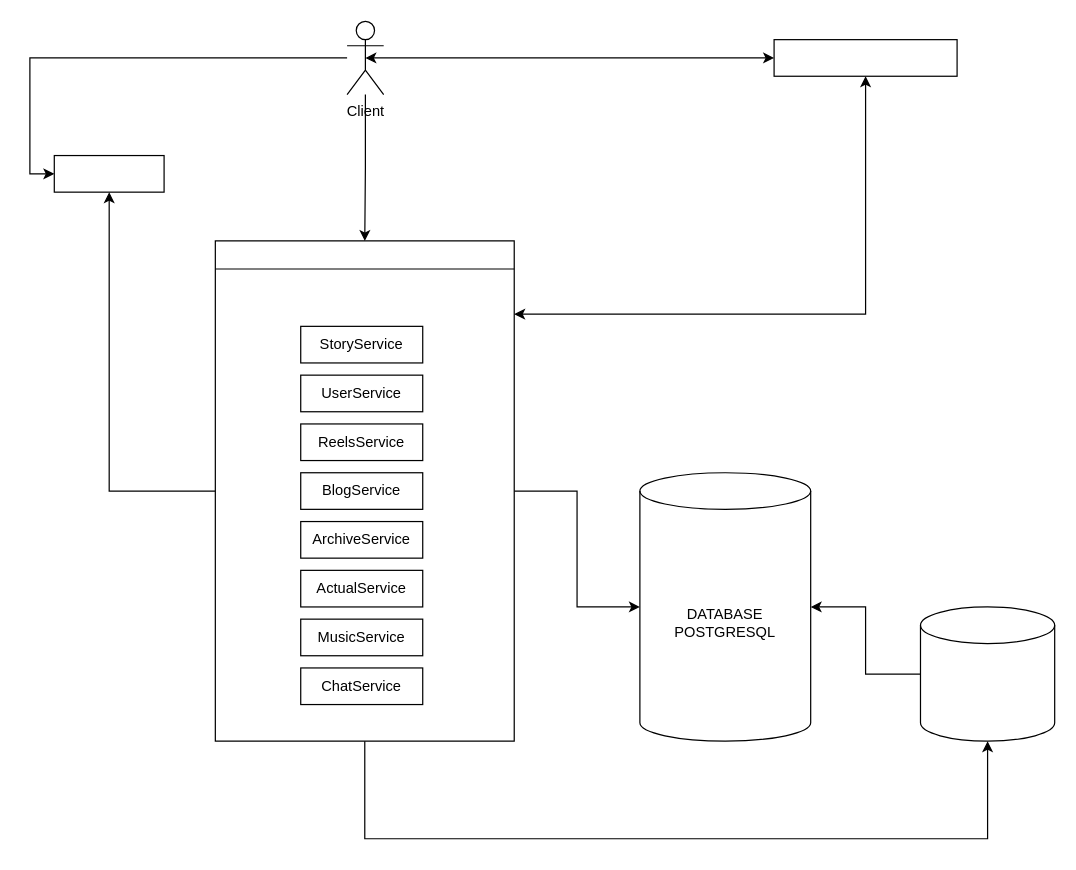
This 1076x870 diagram has some shape labels left out. Each missing label, with the box of its shape:
DATABASE POSTGRESQL REPLICA: (919, 606, 1055, 741)
KeyCloak: (53, 154, 164, 192)
PushNotifications: (773, 38, 957, 76)
TechSocialPark: (214, 240, 514, 741)
